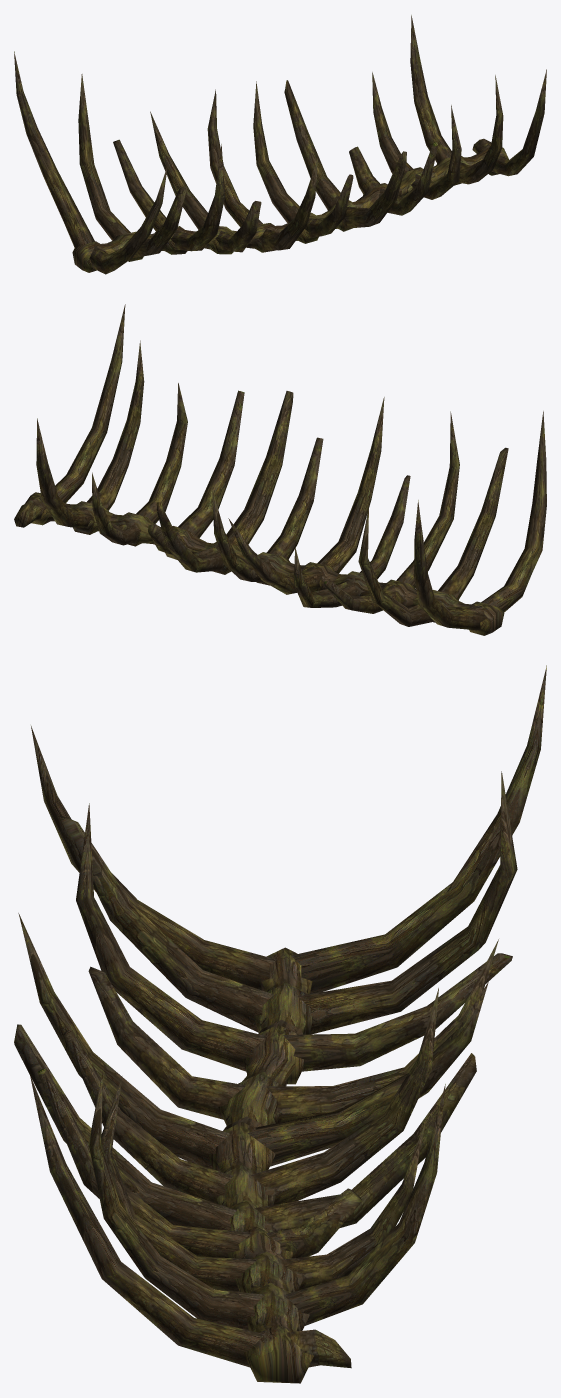
Rendered from 10204_bone02.FBX.
3 renders of one model, top to bottom at view 1: azimuth 30°, elevation 25°; view 2: azimuth 150°, elevation 25°; view 3: azimuth 270°, elevation 25°, orthographic. The views are drawn at different scales.
Parts seen in each view (by area): view 1: 10204_bone02; view 2: 10204_bone02; view 3: 10204_bone02.
Part boxes in pixels (left/top/right/bottom): 10204_bone02: left=14, top=15, right=546, bottom=274; 10204_bone02: left=14, top=304, right=546, bottom=635; 10204_bone02: left=14, top=665, right=546, bottom=1383.
Bounding box in the file's own units: 1017 × 415 × 570.
